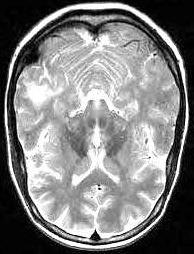Normal_Brain: (6, 1, 194, 250)
